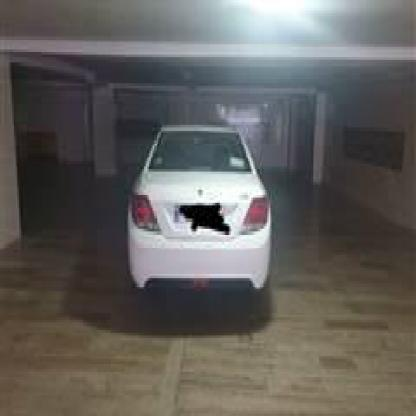car: (112, 117, 276, 322)
